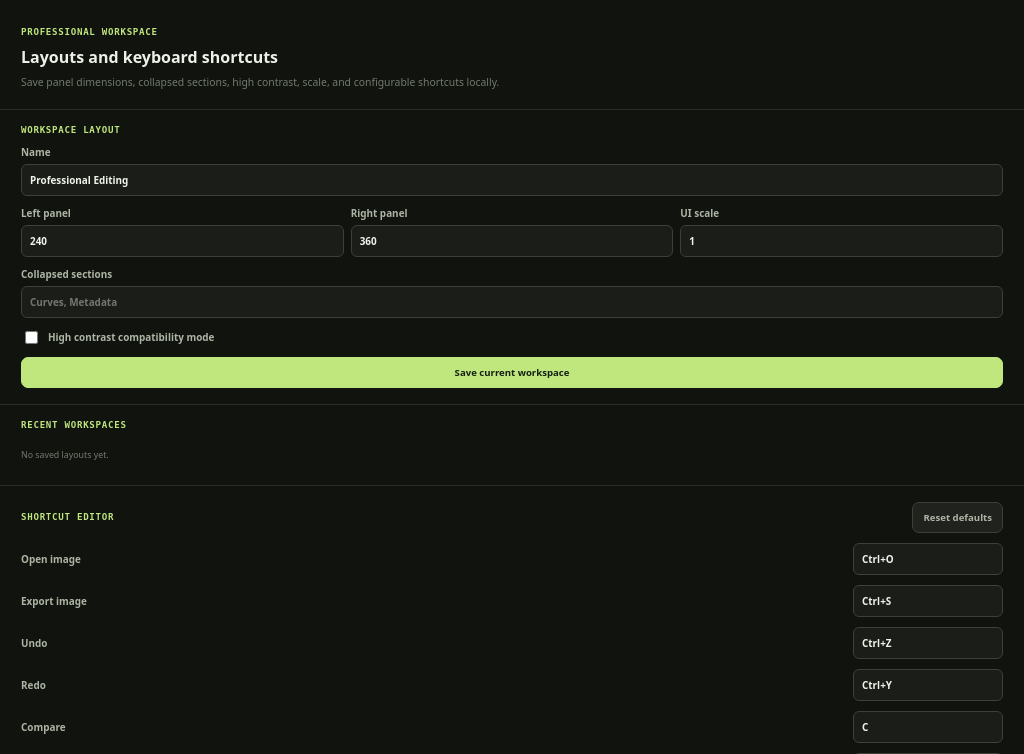
Test case: WorkspaceSettings › detects edited shortcut conflict
This screenshot has width=1024, height=754.
Replace the text in the field named "Export image shortcut" with "Ctrl+O" at (928, 602), box 853,586 -> 1003,618
(page scrolled)
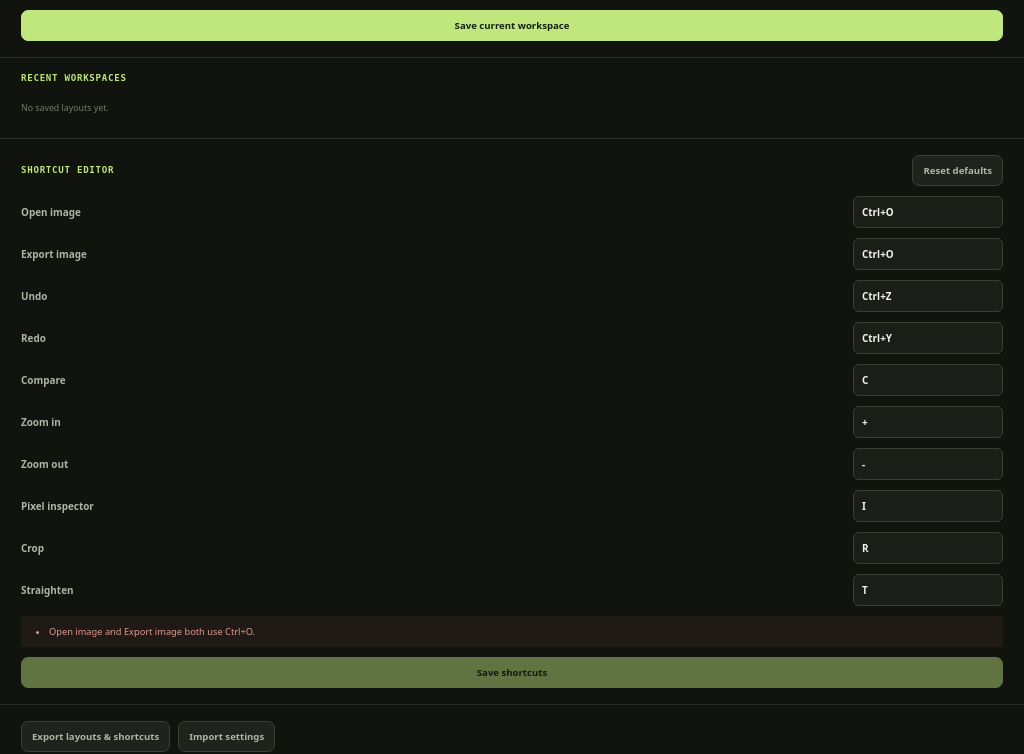
Result: the list item "Open image and Export image both use Ctrl+O." is shown at 49,626 -> 255,638
Result: the button "Save shortcuts" is disabled at 21,658 -> 1003,688
